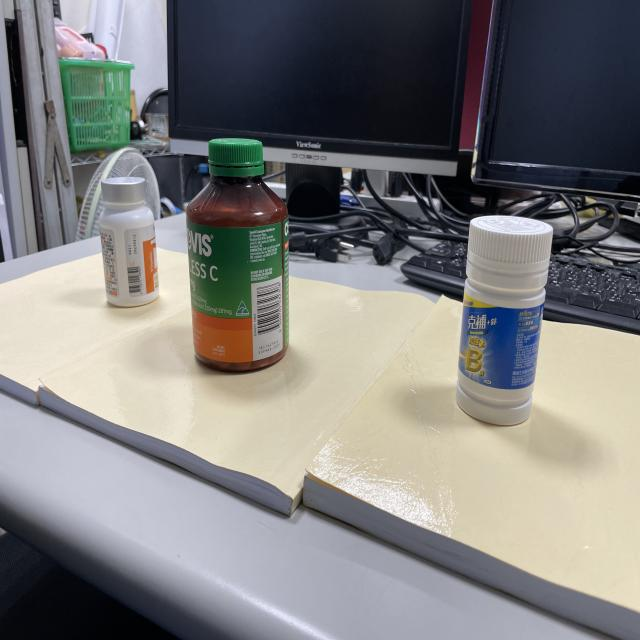Medicine-Jar: (189, 130, 292, 374), (451, 220, 552, 429), (83, 177, 172, 313)
